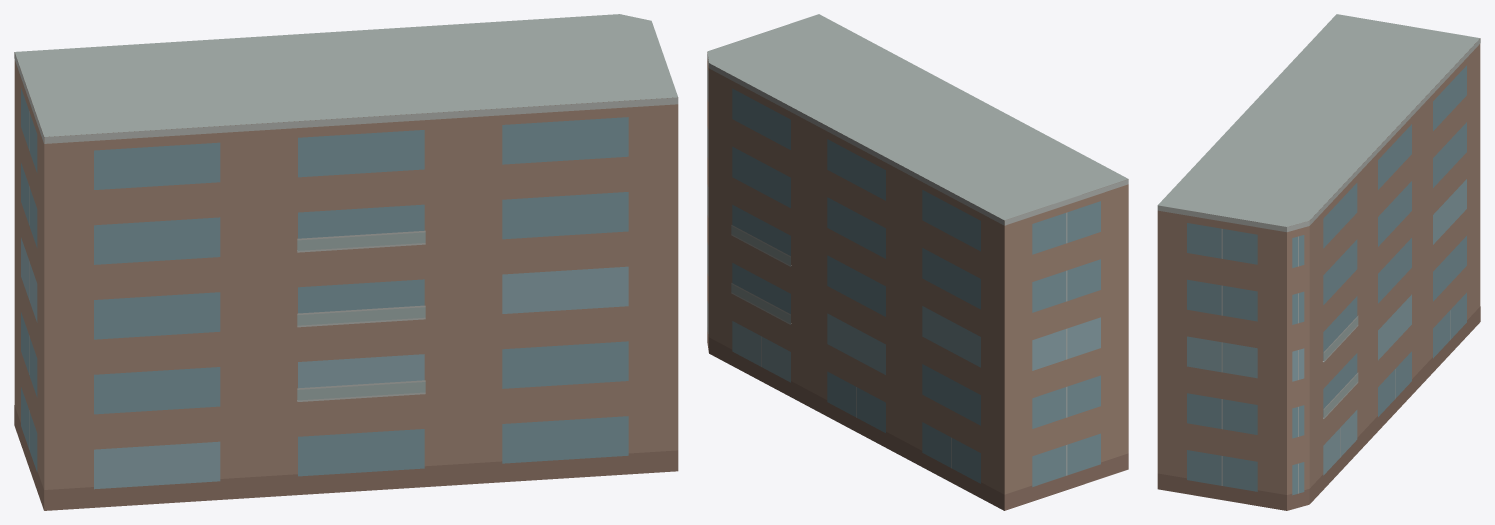
The model's file is survey-upis-32662299.glb.
The picture shows the model from 3 angles, left to right: view 1: azimuth 30°, elevation 25°; view 2: azimuth 150°, elevation 25°; view 3: azimuth 270°, elevation 25°; orthographic projection. The views are drawn at different scales.
Parts seen in each view (by area): view 1: survey-upis-32662299.tmp; view 2: survey-upis-32662299.tmp; view 3: survey-upis-32662299.tmp.
Part boxes in pixels (x1,y1,x2,y2): survey-upis-32662299.tmp: (14,14,678,510); survey-upis-32662299.tmp: (707,14,1128,510); survey-upis-32662299.tmp: (1157,14,1480,510).
Size of the model in its own units: 21.25 by 13.2 by 13.61.
